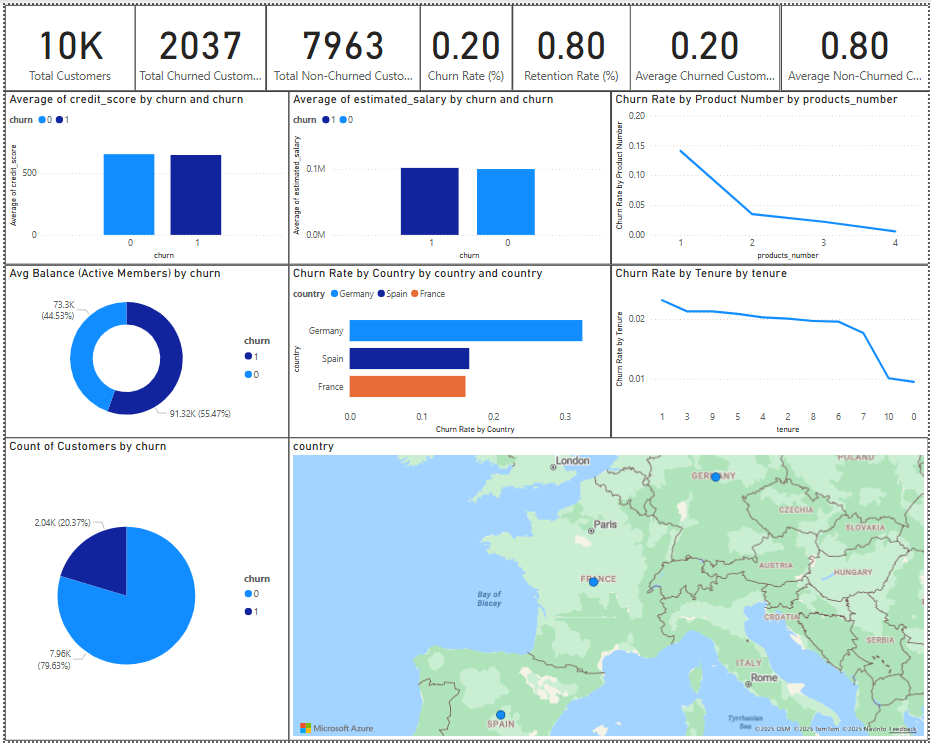

What the dashboard file says about the page in this screenshot:
{"tool":"powerbi","page":{"name":"Page 1","canvas":[1280,1020],"ordinal":0},"visuals":[{"type":"card","fields":{"Values":["Bank Customer Churn Prediction.Total Customers"]},"box":[0,0,180.6,119.5],"z":0},{"type":"card","fields":{"Values":["Bank Customer Churn Prediction.Total Churned Customers"]},"box":[179.8,0,181.5,119.2],"z":1000},{"type":"card","fields":{"Values":["Bank Customer Churn Prediction.Churn Rate (%)"]},"box":[574.9,0,128.1,119.2],"z":2000},{"type":"lineStackedColumnComboChart","fields":{"Category":["Bank Customer Churn Prediction.churn"],"Y":["Avg(Bank Customer Churn Prediction.credit_score)"],"Series":["Bank Customer Churn Prediction.churn"]},"box":[0,119.2,393.3,240.3],"z":3000},{"type":"donutChart","fields":{"Category":["Bank Customer Churn Prediction.churn"],"Y":["Bank Customer Churn Prediction.Avg Balance (Active Members)"]},"box":[0,359.5,393.3,240.3],"z":4000},{"type":"barChart","fields":{"Category":["Bank Customer Churn Prediction.country"],"Y":["Bank Customer Churn Prediction.Churn Rate by Country"],"Series":["Bank Customer Churn Prediction.country"]},"box":[393.3,359.5,446.7,240.3],"z":5000},{"type":"lineStackedColumnComboChart","fields":{"Category":["Bank Customer Churn Prediction.churn"],"Y":["Avg(Bank Customer Churn Prediction.estimated_salary)"],"Series":["Bank Customer Churn Prediction.churn"]},"box":[393.3,119.2,446.7,240.3],"z":6000},{"type":"lineChart","fields":{"Category":["Bank Customer Churn Prediction.products_number"],"Y":["Bank Customer Churn Prediction.Churn Rate by Product Number"]},"box":[840.1,119.2,439.6,240.3],"z":7000},{"type":"card","fields":{"Values":["Bank Customer Churn Prediction.Retention Rate (%)"]},"box":[703,0,163.7,119.2],"z":8000},{"type":"lineChart","fields":{"Category":["Bank Customer Churn Prediction.tenure"],"Y":["Bank Customer Churn Prediction.Churn Rate by Tenure"]},"box":[840.1,359.5,439.6,240.3],"z":9000},{"type":"pieChart","fields":{"Category":["Bank Customer Churn Prediction.churn"],"Y":["CountNonNull(Bank Customer Churn Prediction.Customers)"]},"box":[0,599.8,393.3,420],"z":10000},{"type":"card","fields":{"Values":["Bank Customer Churn Prediction.Average Churned Customers"]},"box":[866.8,0,208.2,119.2],"z":11000},{"type":"card","fields":{"Values":["Bank Customer Churn Prediction.Average Non-Churned Customers"]},"box":[1075,0,204.7,119.2],"z":12000},{"type":"azureMap","fields":{"Category":["Bank Customer Churn Prediction.country"]},"box":[393.3,599.8,886.3,420],"z":13000},{"type":"card","fields":{"Values":["Bank Customer Churn Prediction.Total Non-Churned Customers"]},"box":[361.3,0,213.6,119.2],"z":14000}]}

Visuals, with their boxes in screenshot pixels (x1, y1, x2, y2), scaled from the page's 1280x1020 canvas onto the 931x743 screenshot:
card - Bank Customer Churn Prediction.Total Customers: 0, 0, 131, 87
card - Bank Customer Churn Prediction.Total Churned Customers: 131, 0, 263, 87
card - Bank Customer Churn Prediction.Churn Rate (%): 418, 0, 511, 87
lineStackedColumnComboChart - Bank Customer Churn Prediction.churn x Avg(Bank Customer Churn Prediction.credit_score): 0, 87, 286, 262
donutChart - Bank Customer Churn Prediction.churn x Bank Customer Churn Prediction.Avg Balance (Active Members): 0, 262, 286, 437
barChart - Bank Customer Churn Prediction.country x Bank Customer Churn Prediction.Churn Rate by Country: 286, 262, 611, 437
lineStackedColumnComboChart - Bank Customer Churn Prediction.churn x Avg(Bank Customer Churn Prediction.estimated_salary): 286, 87, 611, 262
lineChart - Bank Customer Churn Prediction.products_number x Bank Customer Churn Prediction.Churn Rate by Product Number: 611, 87, 930, 262
card - Bank Customer Churn Prediction.Retention Rate (%): 511, 0, 630, 87
lineChart - Bank Customer Churn Prediction.tenure x Bank Customer Churn Prediction.Churn Rate by Tenure: 611, 262, 930, 437
pieChart - Bank Customer Churn Prediction.churn x CountNonNull(Bank Customer Churn Prediction.Customers): 0, 437, 286, 742
card - Bank Customer Churn Prediction.Average Churned Customers: 630, 0, 782, 87
card - Bank Customer Churn Prediction.Average Non-Churned Customers: 782, 0, 930, 87
azureMap - Bank Customer Churn Prediction.country: 286, 437, 930, 742
card - Bank Customer Churn Prediction.Total Non-Churned Customers: 263, 0, 418, 87
